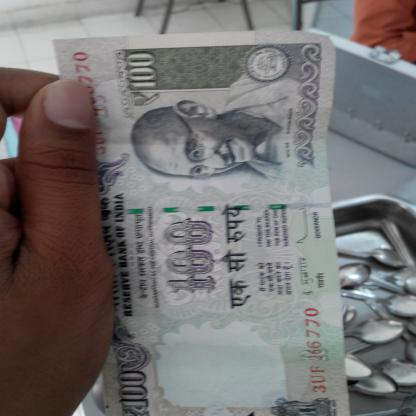Old100Front: (51, 29, 351, 416)
